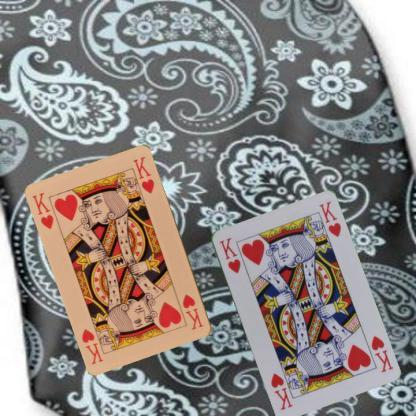Kh: (30, 190, 56, 231), (368, 333, 394, 374), (180, 291, 205, 332), (217, 234, 242, 274)
